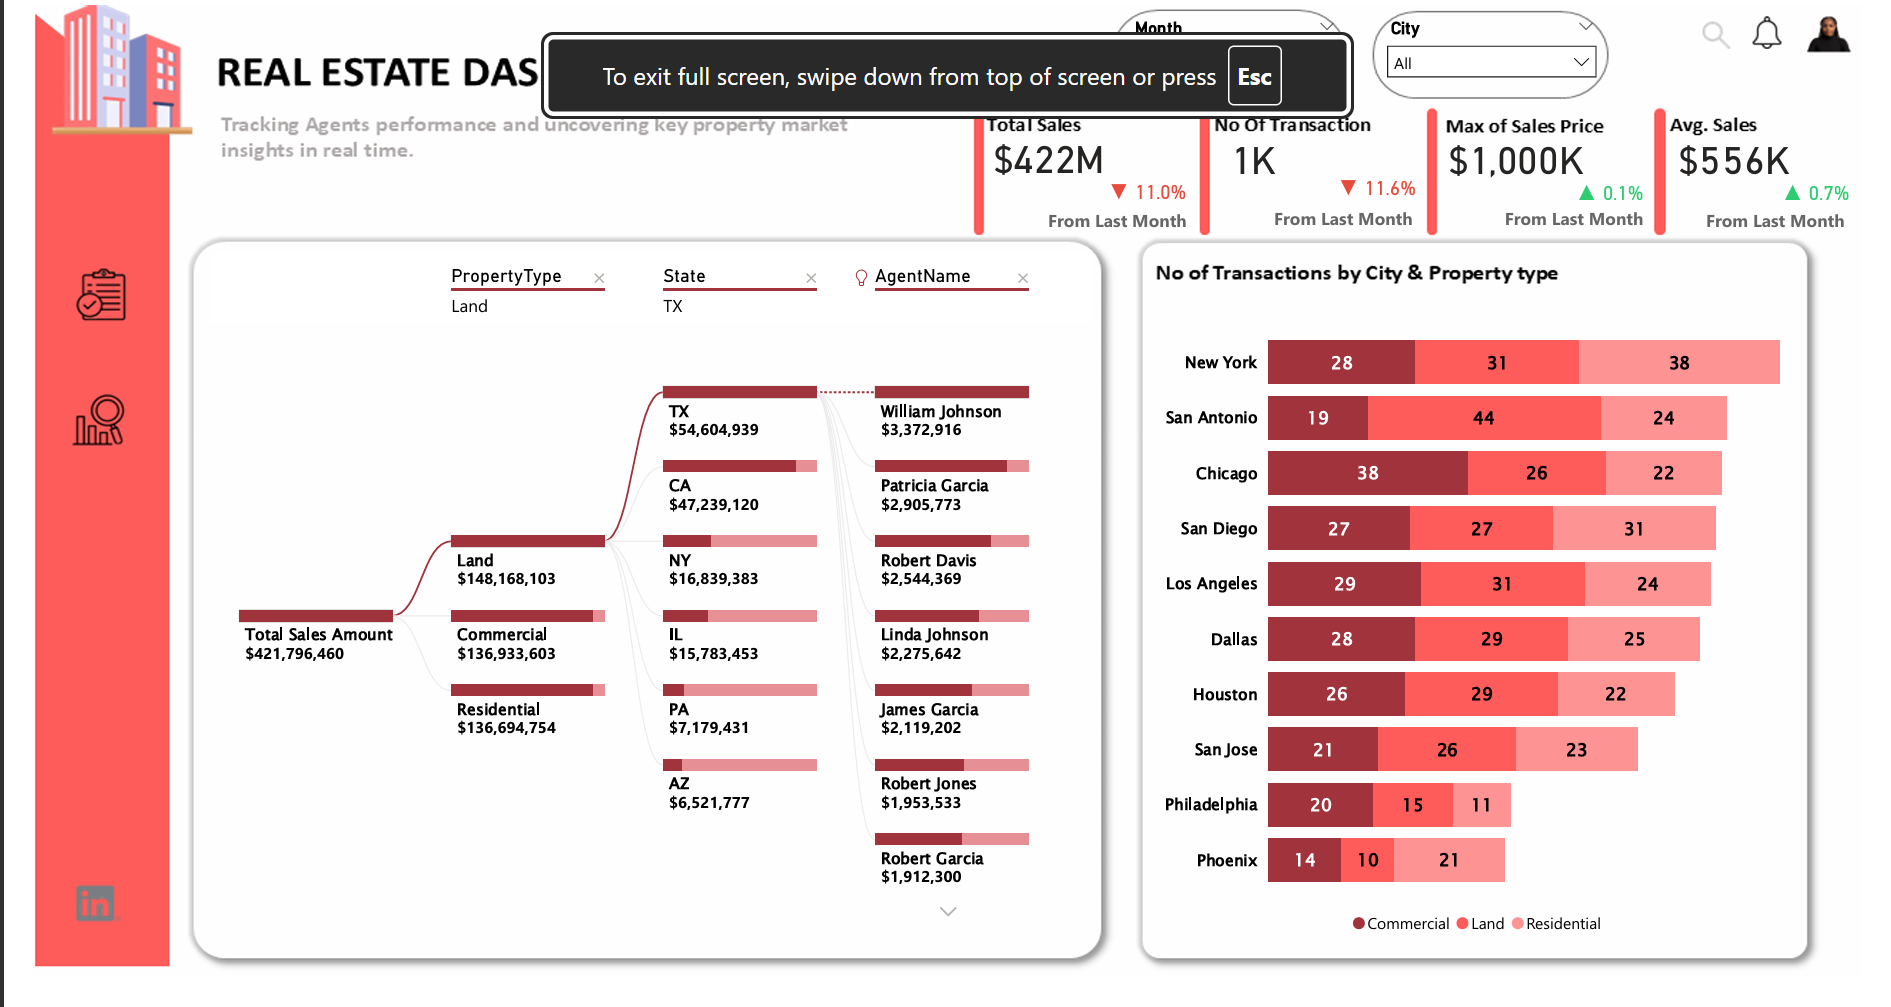

This screenshot's page, from the dashboard's own definition file:
{"tool":"powerbi","page":{"name":"Feb Analysis","canvas":[1554,825],"ordinal":1},"visuals":[{"type":"card","fields":{"Values":["Calculated Measures.No of Transaction"]},"box":[955.9,101.7,162.7,54.2],"z":0},{"type":"card","fields":{"Values":["Max(Guyus Real Estate.SalePrice)"]},"box":[1196.6,100,127.1,57.6],"z":1000},{"type":"card","fields":{"Values":["Calculated Measures.Total Sales Amount"]},"box":[803.4,103.4,120.3,50.8],"z":2000},{"type":"card","fields":{"Values":["Calculated Measures.Average Sales"]},"box":[1388.1,96.6,115.3,64.4],"z":3000},{"type":"slicer","fields":{"Values":["Calender Dim.Month"]},"box":[924.1,5.6,194.4,66.7],"z":4000},{"type":"decompositionTreeVisual","fields":{"Analyze":["Calculated Measures.Total Sales Amount"],"ExplainBy":["Property Dim.PropertyType","Location Dim.State","Agent Dim.AgentName"]},"box":[145.8,205.1,759.3,605.1],"z":5000},{"type":"barChart","fields":{"Category":["Location Dim.City"],"Y":["Calculated Measures.No of Transaction"],"Series":["Property Dim.PropertyType"]},"box":[955.9,252.5,547.5,545.8],"z":6000},{"type":"card","fields":{"Values":["Calculated Measures.Total Sales Amount MoM Display%"]},"box":[893.3,138.3,103.3,41.7],"z":7000},{"type":"card","fields":{"Values":["Calculated Measures.No of Transactions MoM Display%"]},"box":[1088.9,135.2,101.9,40.7],"z":8000},{"type":"card","fields":{"Values":["Calculated Measures.Max of salesprice MoM Display%"]},"box":[1296.3,138.9,83.3,42.6],"z":9000},{"type":"card","fields":{"Values":["Calculated Measures.Average Sales MoM Display%"]},"box":[1472.2,135.2,81.5,50],"z":10000},{"type":"slicer","fields":{"Values":["Location Dim.City"]},"box":[1140.7,5.6,198.1,68.5],"z":11000},{"type":"textbox","box":[1050,165.4,194.2,32.7],"z":12000},{"type":"textbox","box":[857.7,167.3,194.2,34.6],"z":13000},{"type":"textbox","box":[1246.2,165.4,136.5,36.5],"z":14000},{"type":"textbox","box":[1417.3,167.3,136.5,36.5],"z":15000}]}

Visuals, with their boxes in screenshot pixels (x1, y1, x2, y2), scaled from the page's 1554x825 canvas onto the 1891x1007 screenshot:
card - Calculated Measures.No of Transaction: left=1163, top=124, right=1361, bottom=190
card - Max(Guyus Real Estate.SalePrice): left=1456, top=122, right=1611, bottom=192
card - Calculated Measures.Total Sales Amount: left=978, top=126, right=1124, bottom=188
card - Calculated Measures.Average Sales: left=1689, top=118, right=1829, bottom=197
slicer - Calender Dim.Month: left=1125, top=7, right=1361, bottom=88
decompositionTreeVisual - Calculated Measures.Total Sales Amount x Property Dim.PropertyType: left=177, top=250, right=1101, bottom=989
barChart - Location Dim.City x Calculated Measures.No of Transaction: left=1163, top=308, right=1829, bottom=974
card - Calculated Measures.Total Sales Amount MoM Display%: left=1087, top=169, right=1213, bottom=220
card - Calculated Measures.No of Transactions MoM Display%: left=1325, top=165, right=1449, bottom=215
card - Calculated Measures.Max of salesprice MoM Display%: left=1577, top=170, right=1679, bottom=222
card - Calculated Measures.Average Sales MoM Display%: left=1791, top=165, right=1890, bottom=226
slicer - Location Dim.City: left=1388, top=7, right=1629, bottom=90
textbox: left=1278, top=202, right=1514, bottom=242
textbox: left=1044, top=204, right=1280, bottom=246
textbox: left=1516, top=202, right=1683, bottom=246
textbox: left=1725, top=204, right=1890, bottom=249
